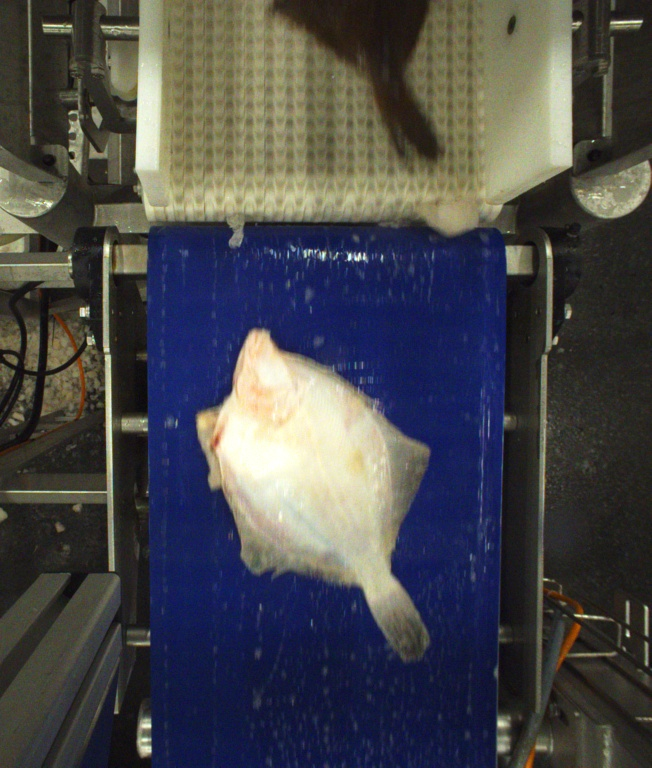PLE: (198, 329, 435, 660)
